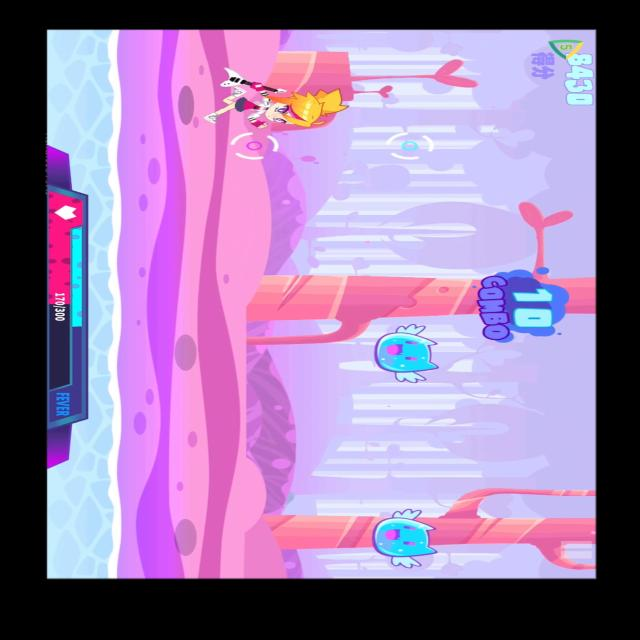Sky Monster - Blue Devil: (369, 323, 443, 387), (370, 507, 440, 571)
